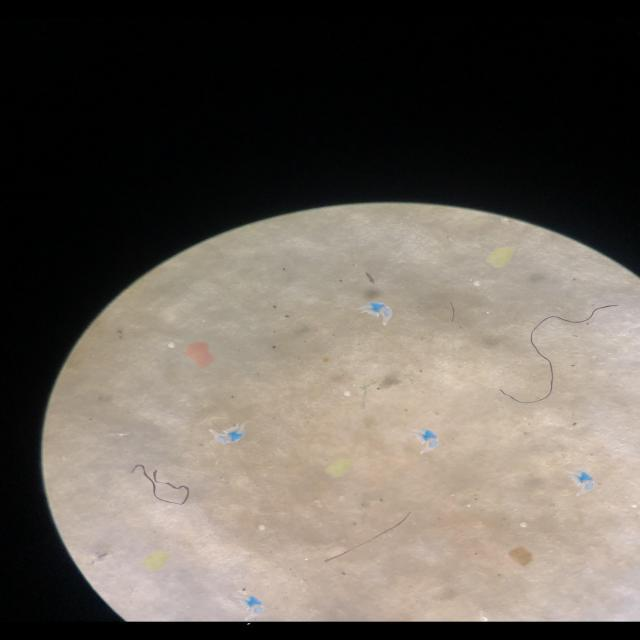fiber: (505, 302, 617, 400), (318, 509, 419, 568), (125, 460, 197, 514)
film: (562, 464, 602, 502), (405, 423, 445, 459), (354, 300, 401, 330), (230, 592, 274, 622), (208, 420, 248, 447)
fragment: (181, 342, 230, 372), (481, 239, 515, 273), (504, 543, 538, 573), (133, 547, 165, 577), (319, 454, 352, 481)
pallet: (513, 519, 533, 531), (468, 279, 488, 289), (256, 522, 269, 536), (166, 341, 178, 351), (342, 388, 354, 398)
